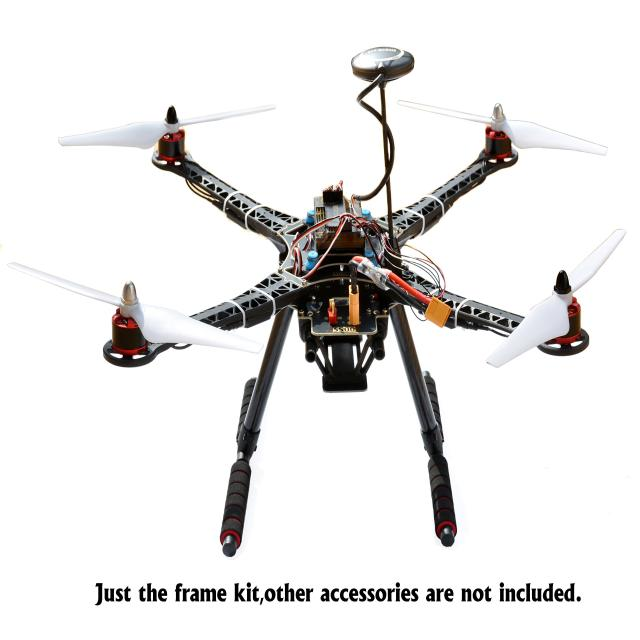drone: (18, 61, 640, 534)
